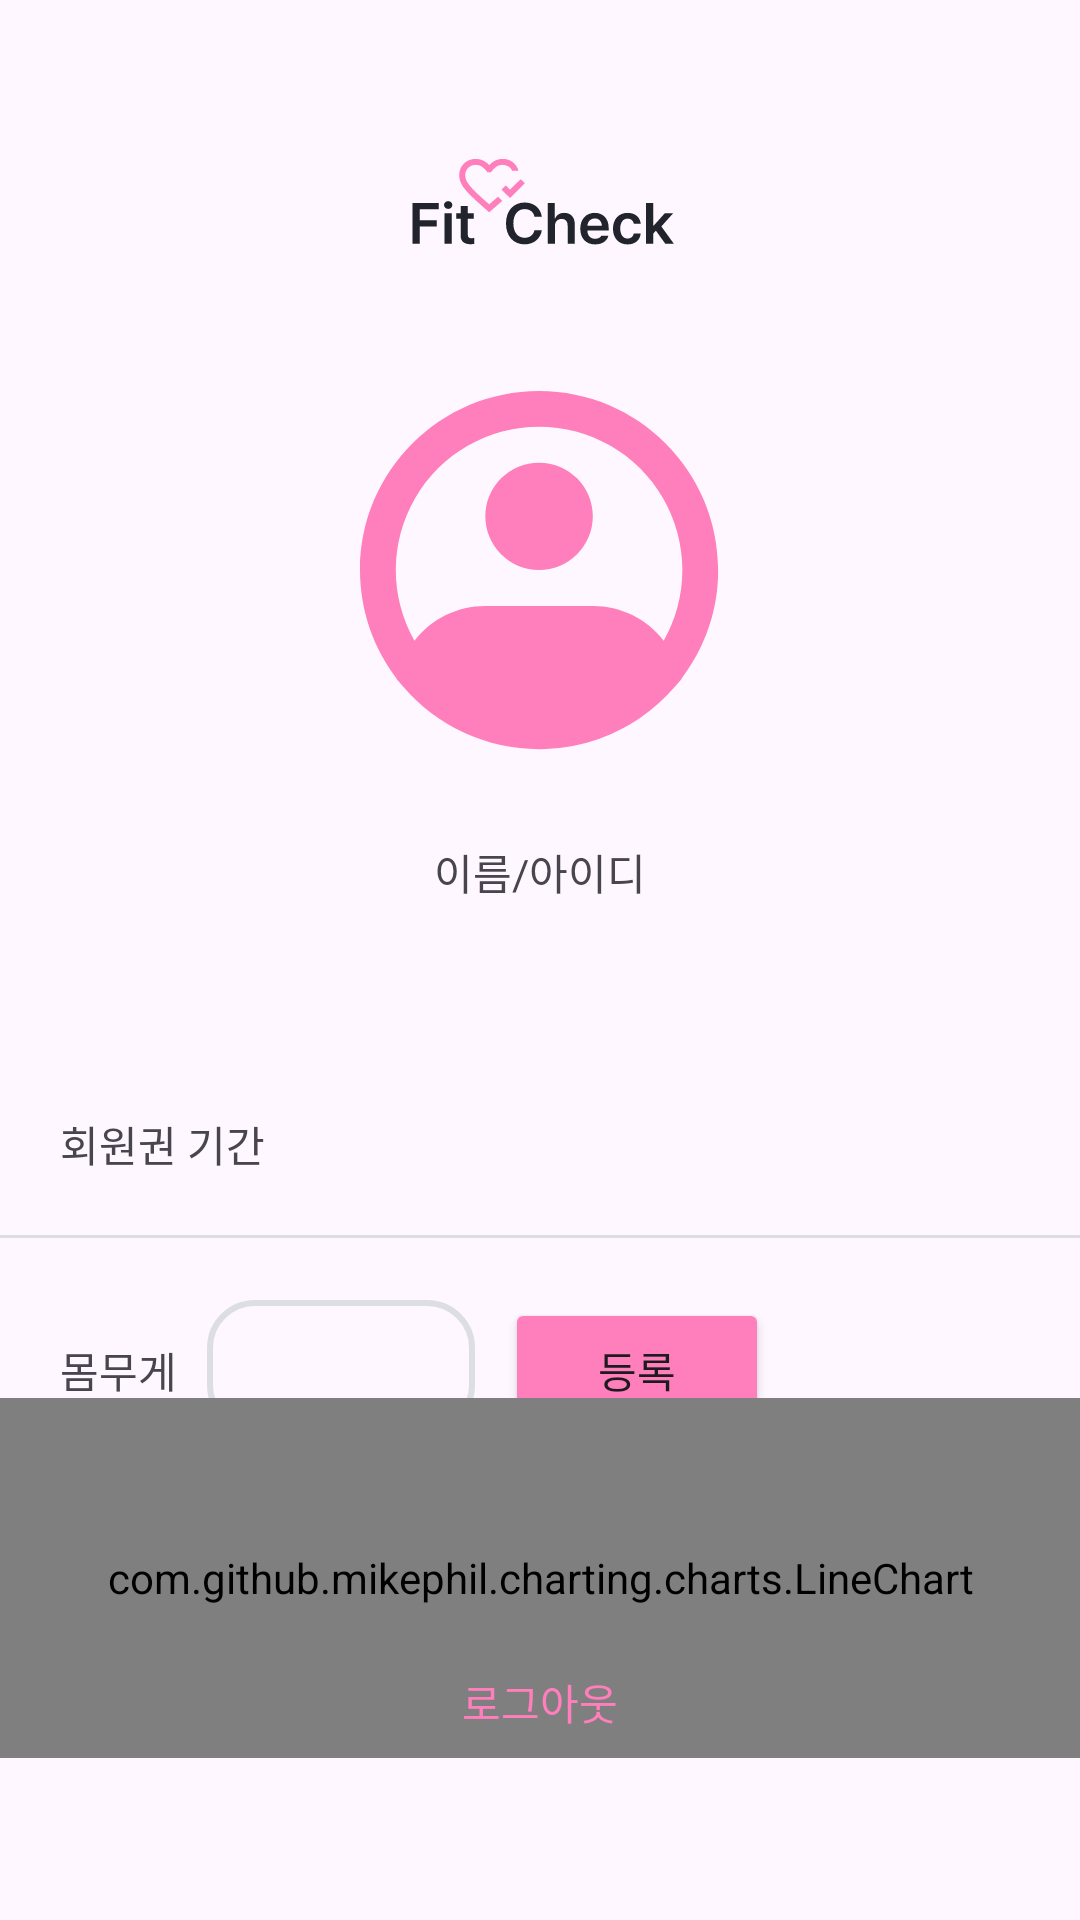

Named icons in this screenshot (1080px x 1920px) and their bounding boxes, box(x1, y1, x2, y2):
mypage profile: box(360, 391, 718, 750)
